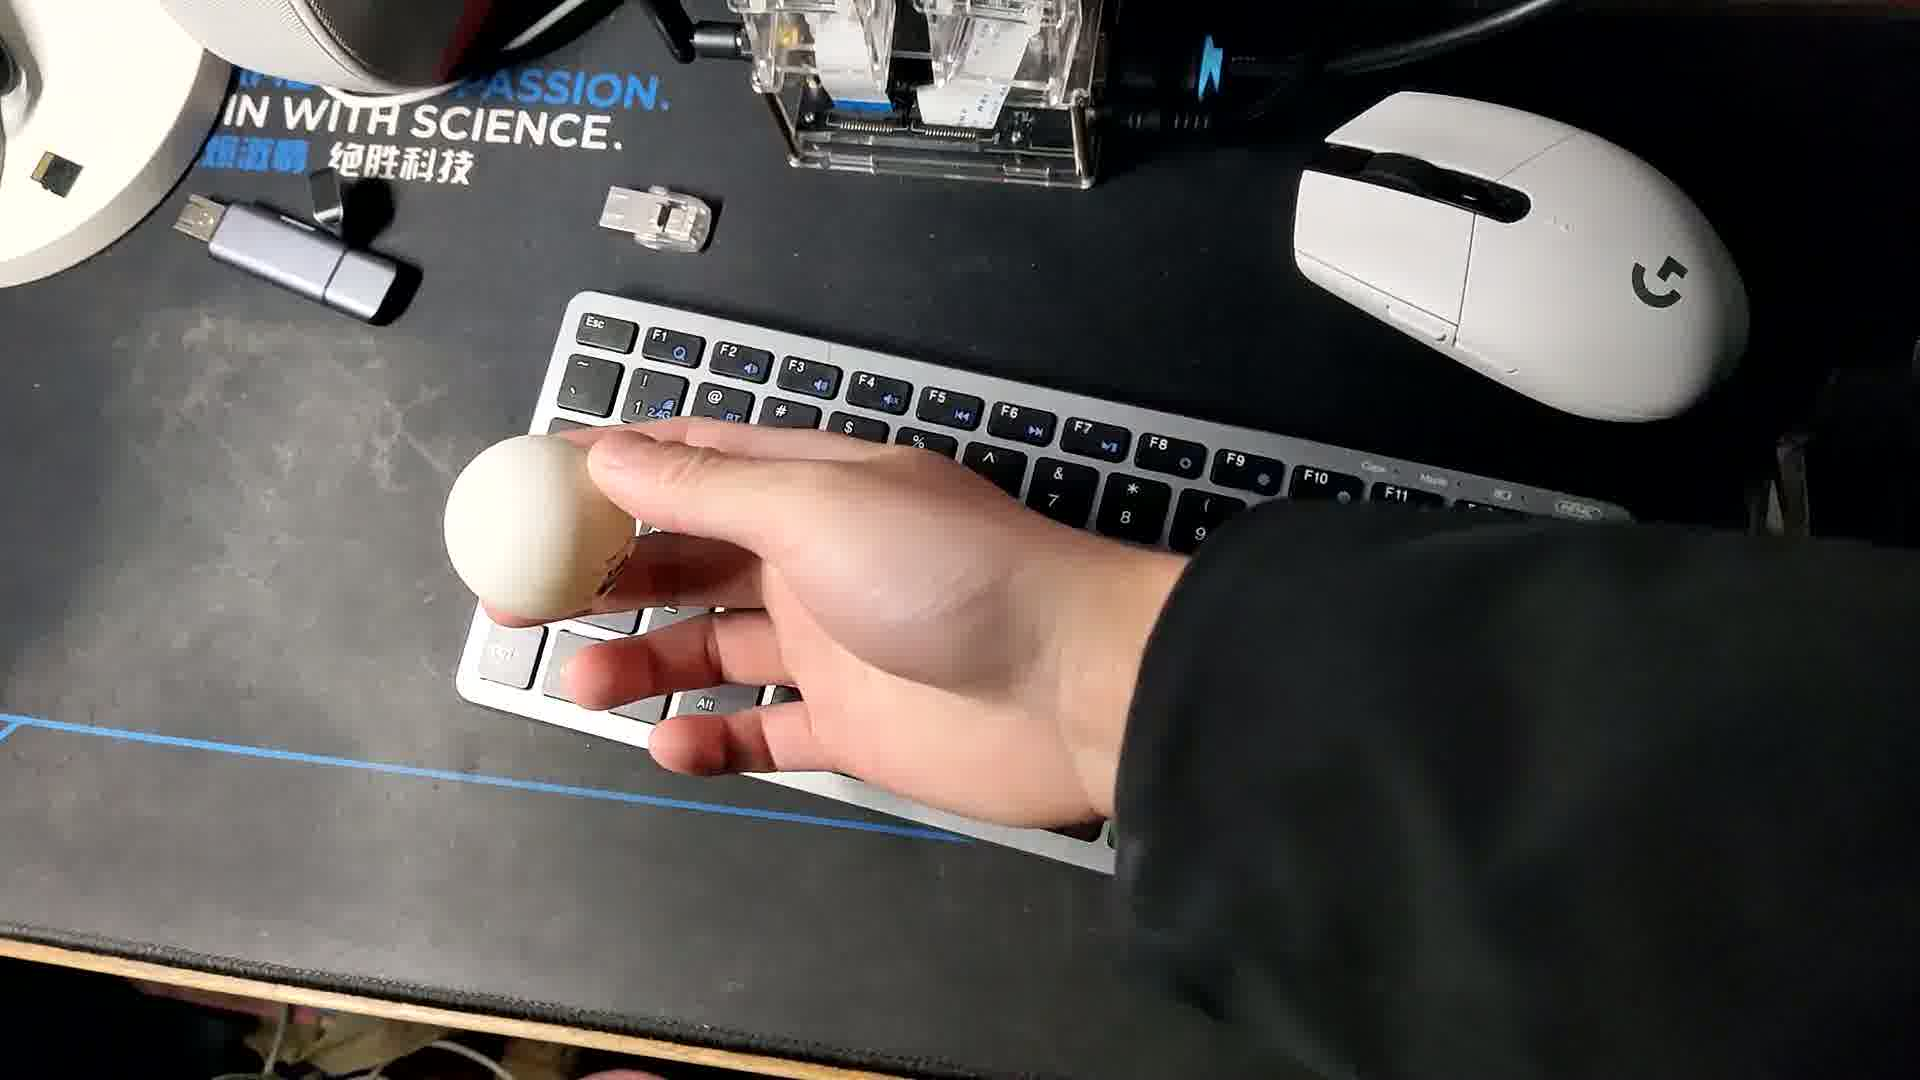Ball: (440, 435, 629, 620)
